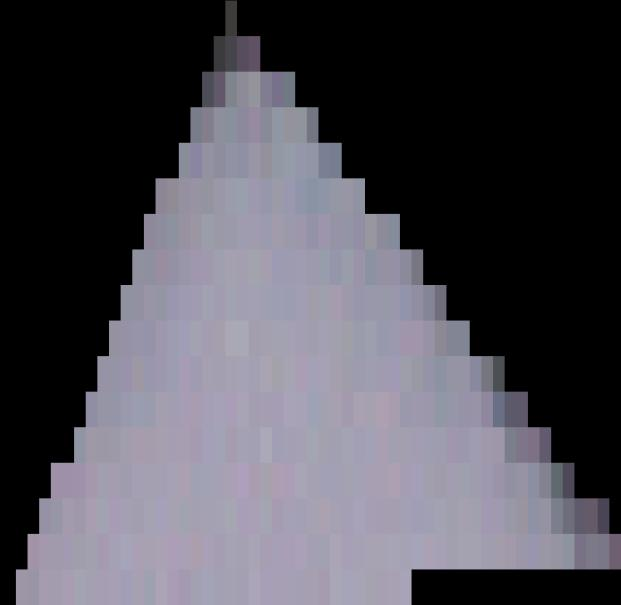lane: (0, 1, 621, 605)
